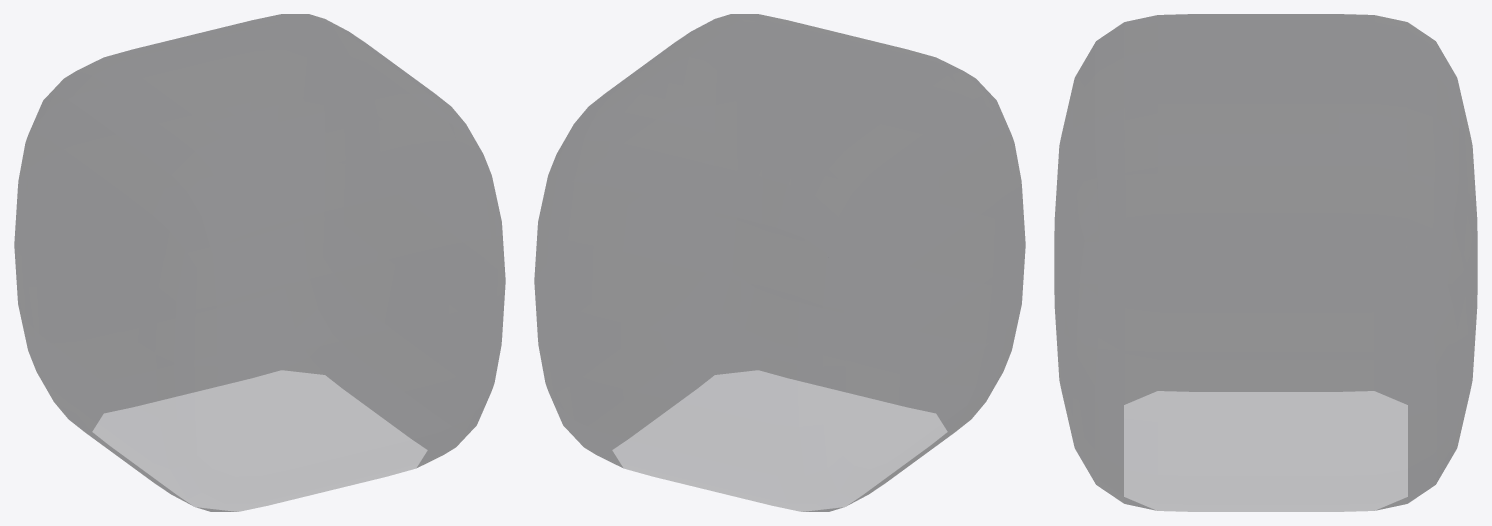
The model's file is DisplayCoverV1-1.glb.
3 renders of one model, left to right at view 1: azimuth 30°, elevation 25°; view 2: azimuth 150°, elevation 25°; view 3: azimuth 270°, elevation 25°, orthographic. The views are drawn at different scales.
Visible parts, largest first — view 1: Glass Cover2; view 2: Glass Cover2; view 3: Glass Cover2.
Part boxes in pixels (x1,y1,x2,y2): Glass Cover2: [14, 14, 505, 511]; Glass Cover2: [534, 14, 1025, 511]; Glass Cover2: [1054, 14, 1477, 511].
Bounding box in the file's own units: 0.3718 × 0.3745 × 0.3718.
1 material, 1 textured.
